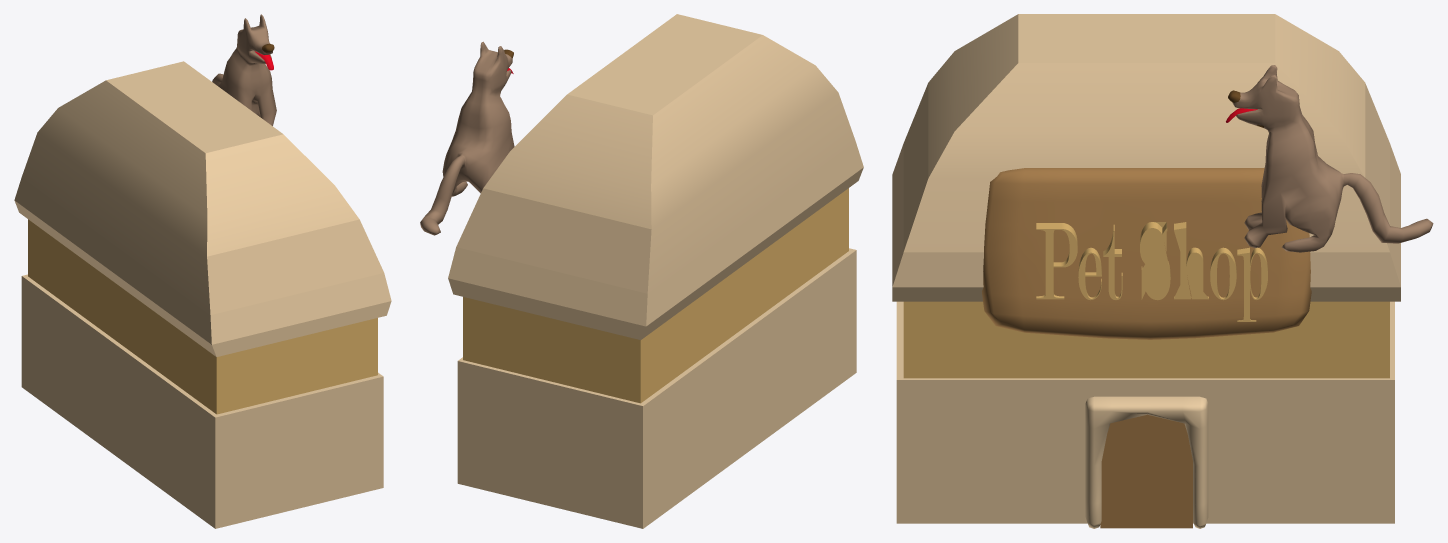
File: Petshop.fbx
The picture shows the model from 3 angles, left to right: view 1: azimuth 30°, elevation 25°; view 2: azimuth 150°, elevation 25°; view 3: azimuth 270°, elevation 25°; orthographic projection. The views are drawn at different scales.
Visible parts, largest first — view 1: pCube1, pCube10, Dog_s:pCube1; view 2: pCube1, pCube10, Dog_s:pCube1; view 3: pCube1, pCube10, pCube2, Dog_s:pCube1, pCube11, typeMesh1, pCube3.
Boxes of the visible parts, left/top/right/bottom form: pCube1: left=14, top=61, right=391, bottom=414; pCube10: left=21, top=274, right=383, bottom=528; Dog_s:pCube1: left=212, top=14, right=276, bottom=125; pCube1: left=448, top=14, right=863, bottom=403; pCube10: left=457, top=248, right=856, bottom=528; Dog_s:pCube1: left=420, top=41, right=514, bottom=235; pCube1: left=892, top=14, right=1400, bottom=378; pCube10: left=896, top=301, right=1394, bottom=523; pCube2: left=982, top=168, right=1311, bottom=339; Dog_s:pCube1: left=1226, top=65, right=1433, bottom=252; pCube11: left=1100, top=414, right=1192, bottom=528; typeMesh1: left=1036, top=222, right=1267, bottom=321; pCube3: left=1085, top=396, right=1208, bottom=528.
Bounding box in the file's own units: 7.74 × 12.54 × 13.24.
